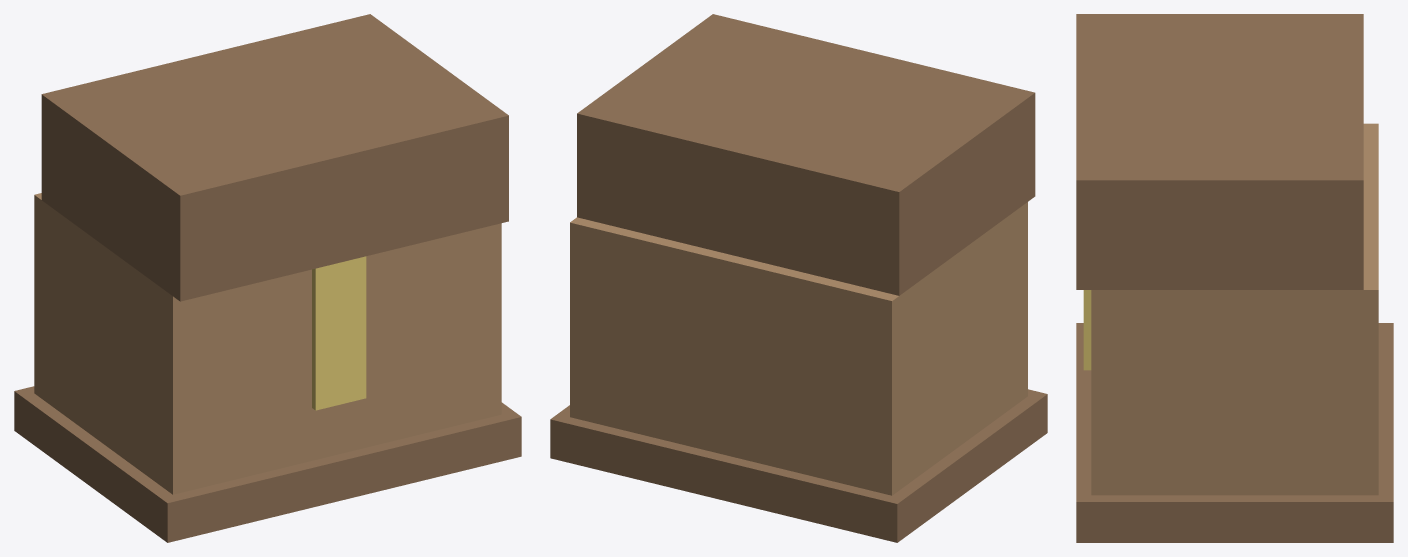
Rendered from chest.glb.
3 views of the same model, side by side, from view 1: azimuth 30°, elevation 25°; view 2: azimuth 150°, elevation 25°; view 3: azimuth 270°, elevation 25° (orthographic). The views are drawn at different scales.
Visible parts, largest first — view 1: base, lid; view 2: base, lid; view 3: base, lid.
Part boxes in pixels (x1,y1,x2,y2): base: (14, 193, 521, 542); lid: (41, 14, 508, 301); base: (550, 202, 1047, 542); lid: (577, 14, 1035, 295); base: (1076, 123, 1393, 542); lid: (1076, 14, 1363, 289).
Bounding box in the file's own units: 0.56 × 0.52 × 0.42.
